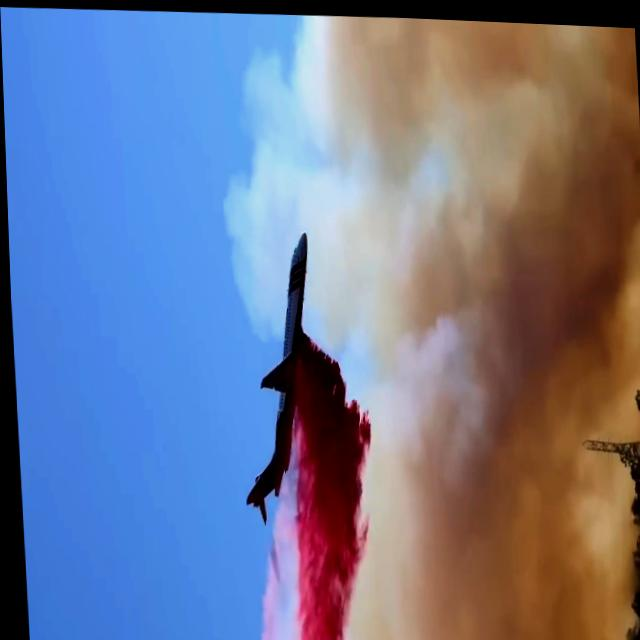no_helmet: (338, 12, 640, 640)
